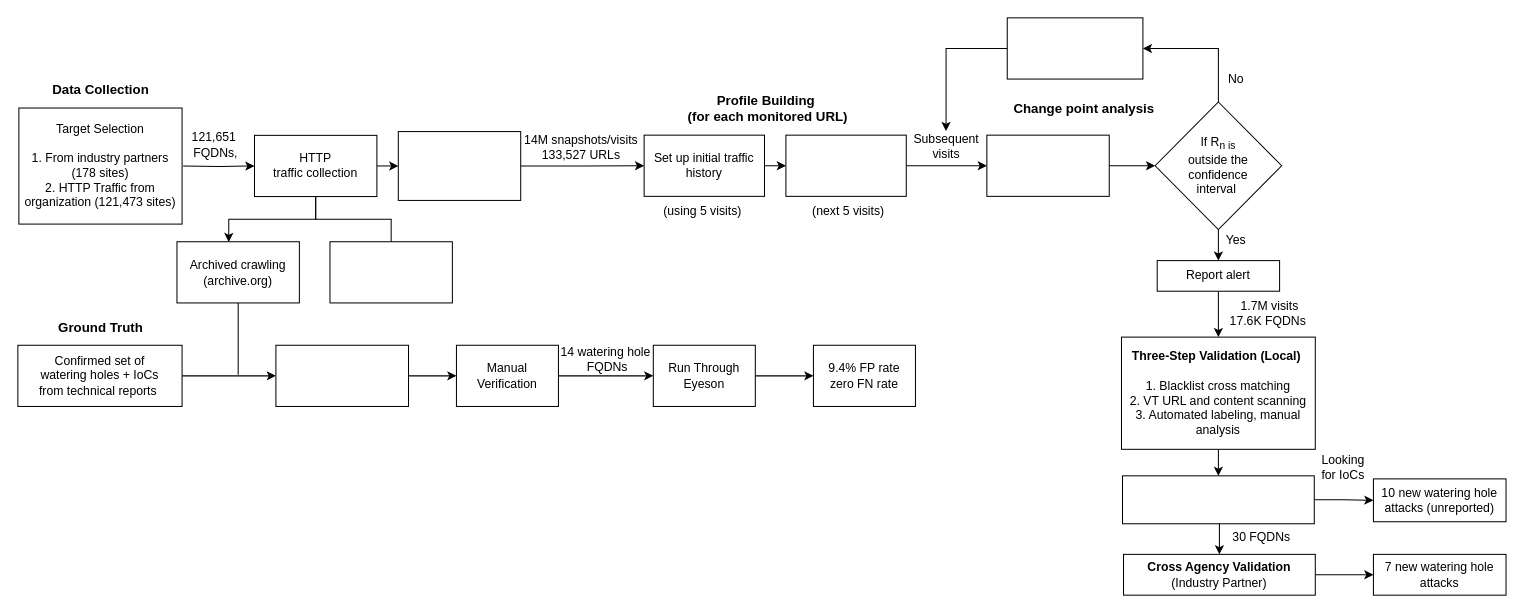
Image size: 1524x613. Some labels were removed from this diagram. The centre of each missing label's shape, as x and y in pixels:
"Calculate Change Rate R n" goes at (1047,165).
"Confirmed Compromised Visits 3.2K FQDNs" goes at (1217,499).
"Construct model for change rate (P n )*" goes at (845,165).
"Filter out requests from legitimate tracking, ad networks" goes at (459,165).
"Locate snapshots with IoCs" goes at (342,375).
"Real time crawling (Only the 178 sites)" goes at (390,272).
"Update profile, change distribution, confidence intervals" goes at (1074,48).
